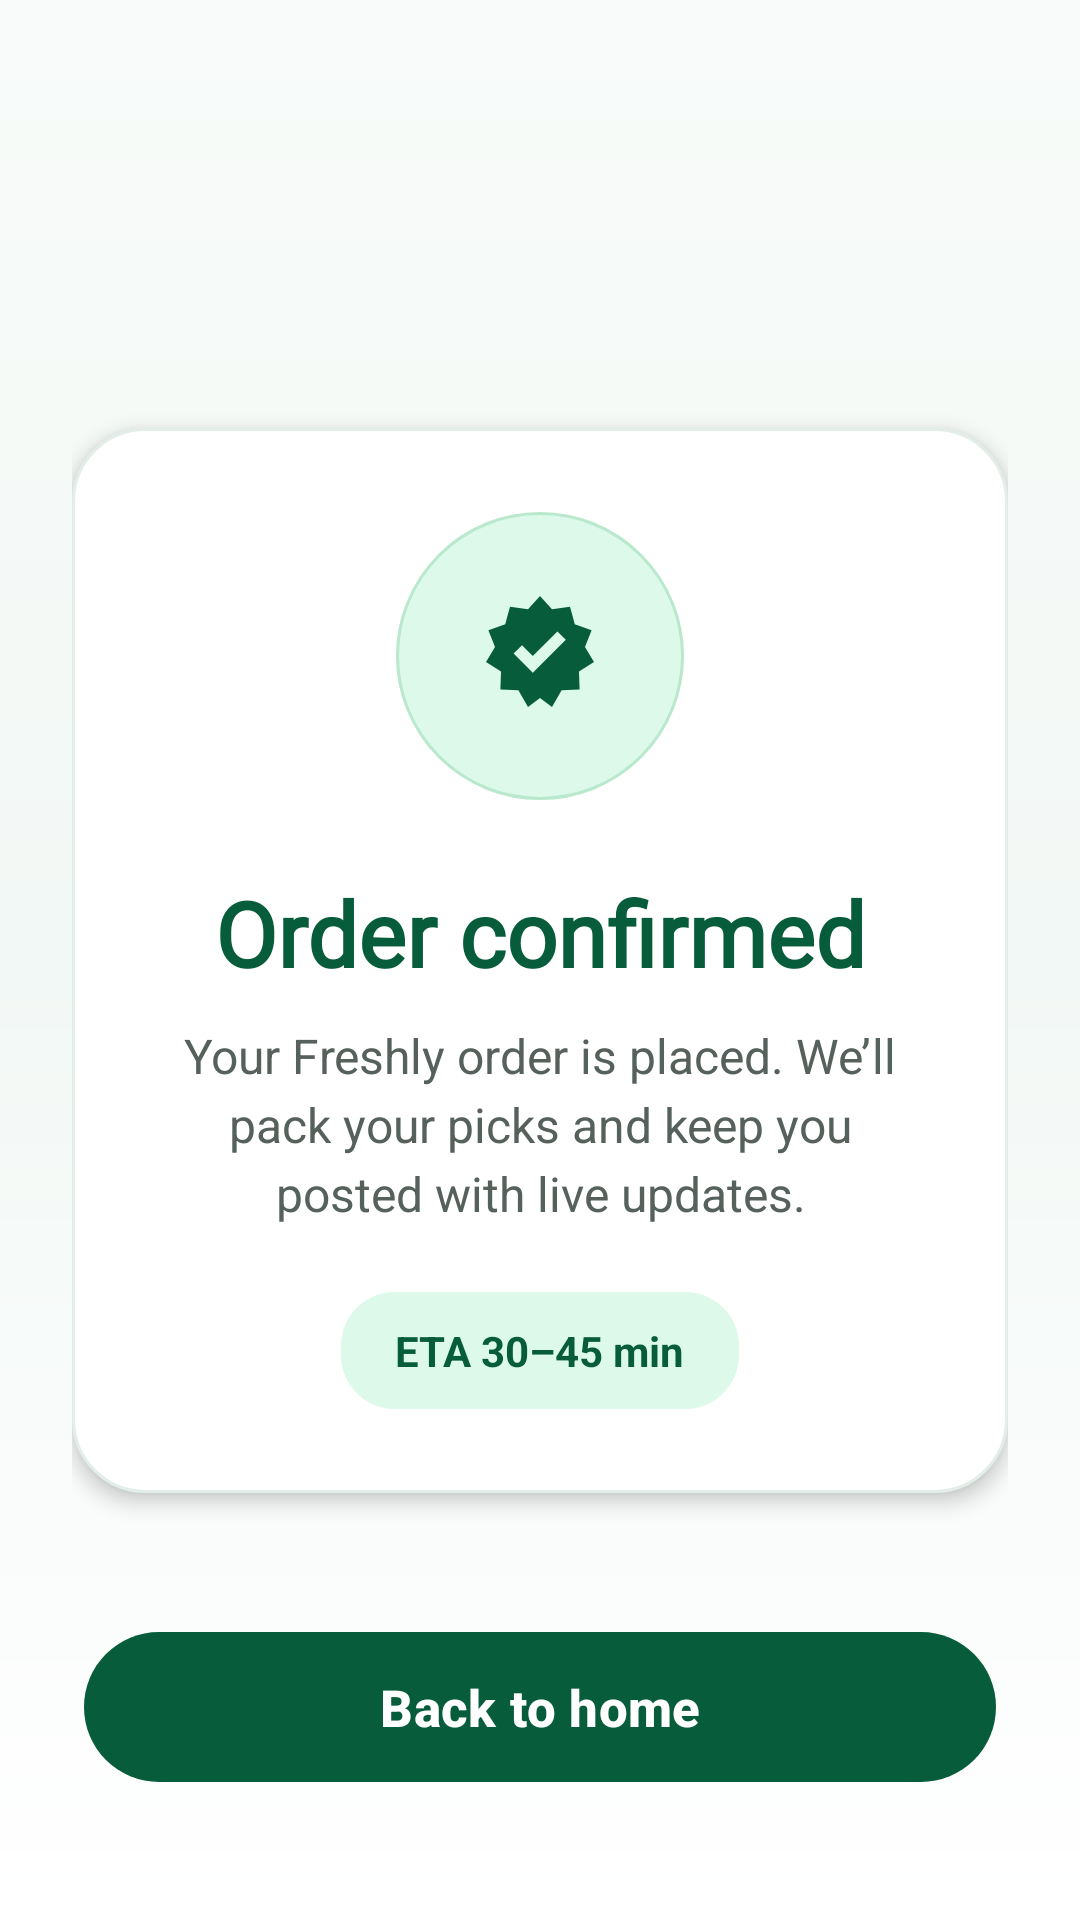

Screen size 1080 × 1920. Icon name, then its box in pixels as (x1, y1, x2, y2):
badge check: (486, 596, 594, 707)
